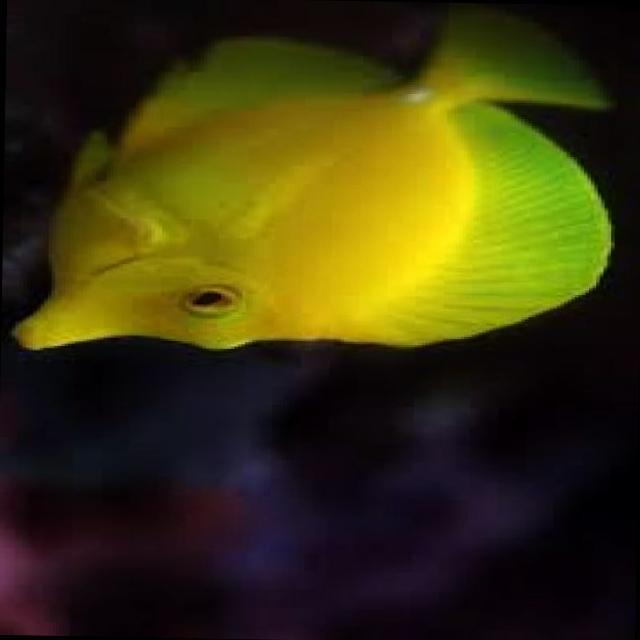YellowTang: (4, 0, 637, 375)
